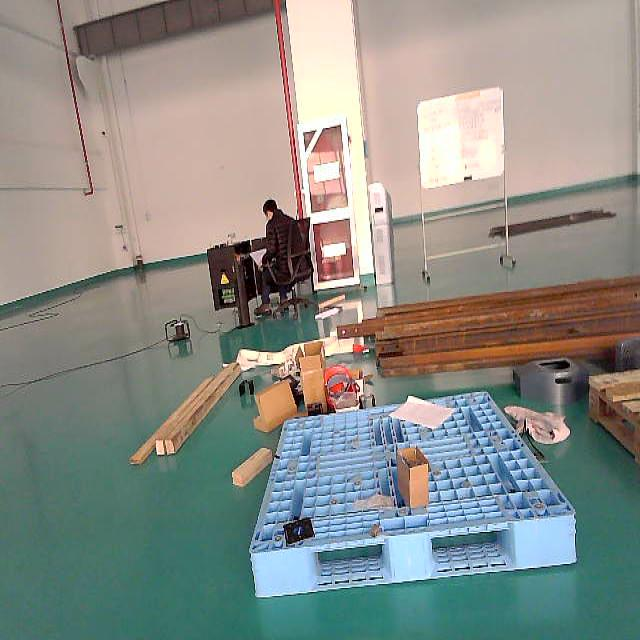euro: (585, 363, 640, 464)
